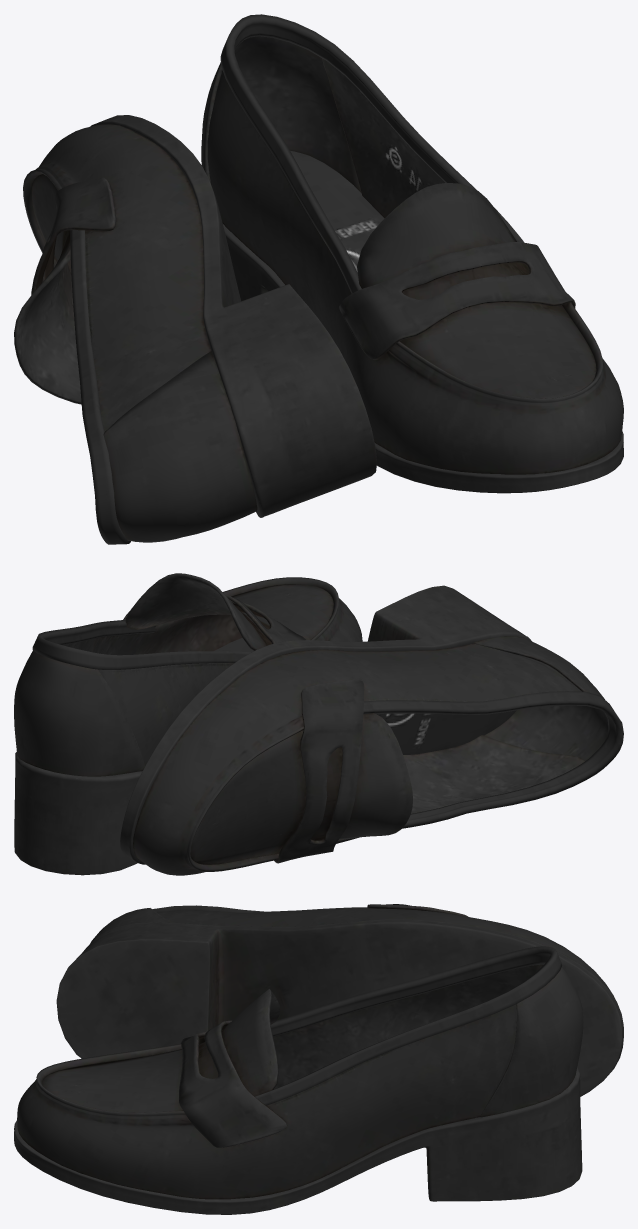
File: product-loafers-black-001.glb
The picture shows the model from 3 angles, top to bottom: view 1: azimuth 30°, elevation 25°; view 2: azimuth 150°, elevation 25°; view 3: azimuth 270°, elevation 25°; orthographic projection. The views are drawn at different scales.
Visible parts, largest first — view 1: Plane.001_l.001; view 2: Plane.001_l.001; view 3: Plane.001_l.001.
Part boxes in pixels (x1=…): Plane.001_l.001: x1=14, y1=14, x2=623, y2=544; Plane.001_l.001: x1=14, y1=573, x2=623, y2=875; Plane.001_l.001: x1=14, y1=904, x2=623, y2=1214.
Bounding box in the file's own units: 0.3018 × 0.1428 × 0.361.
Materials: 1 (1 with a texture image).
